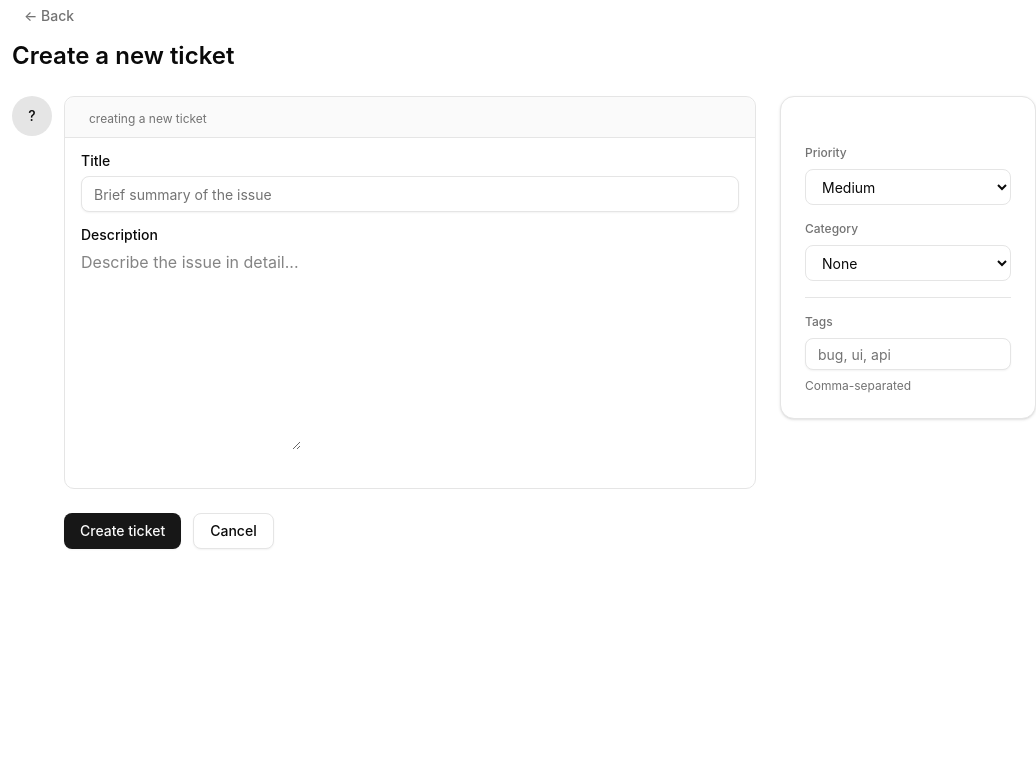
Test: New Ticket page › button shows loading text during submission
Type "Test" into the field labelled "Title" at (410, 194), box [81,176,739,212]
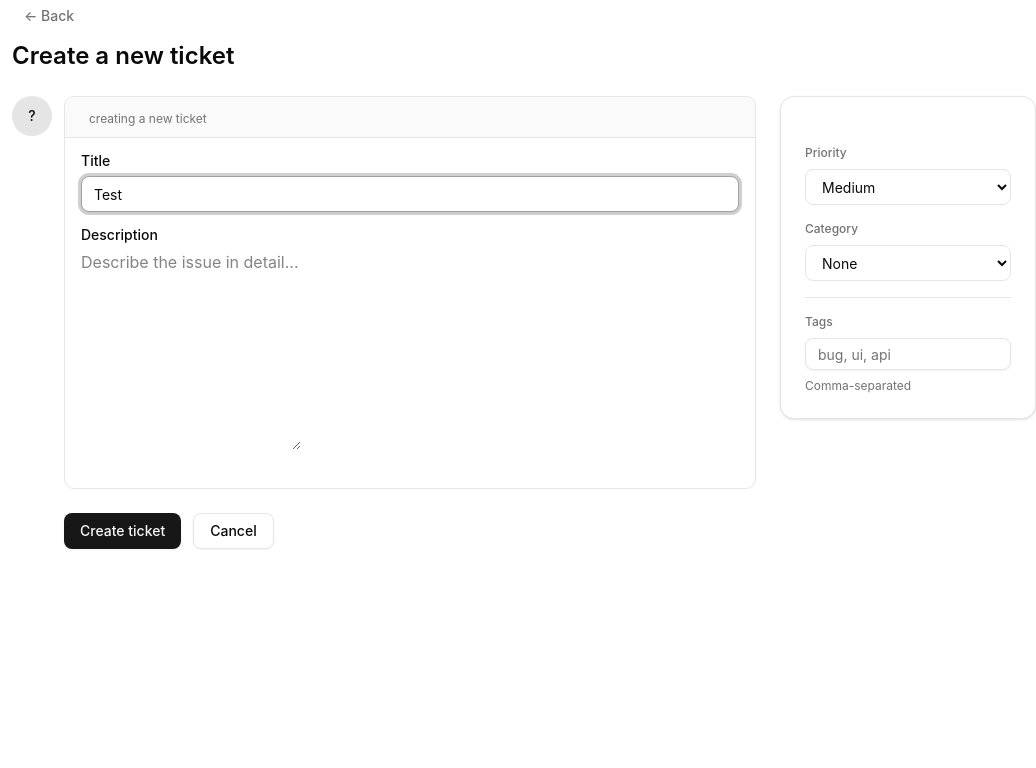
Type "Desc" into the text box named "rich-text-editor" at (191, 350), box [81,250,301,450]
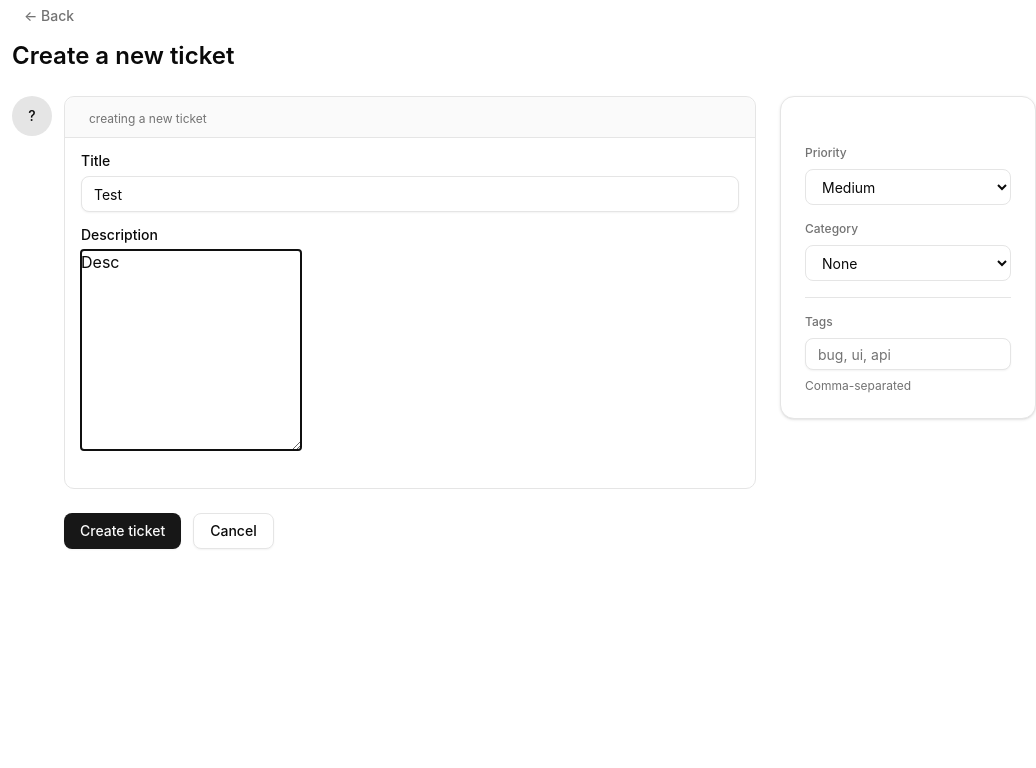
Don't await — we want to observe the in-flight state
Click the button "Create ticket" at (123, 531), box [64,513,181,549]
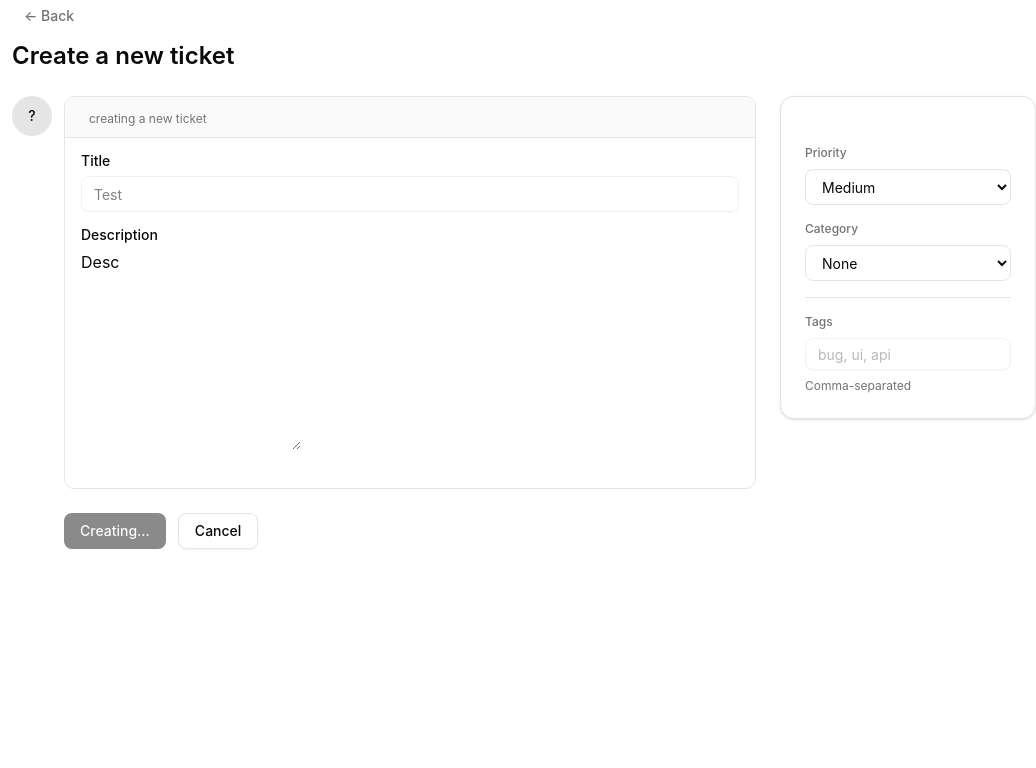
expect the button "Creating..." is shown: met, box [64,513,166,549]
